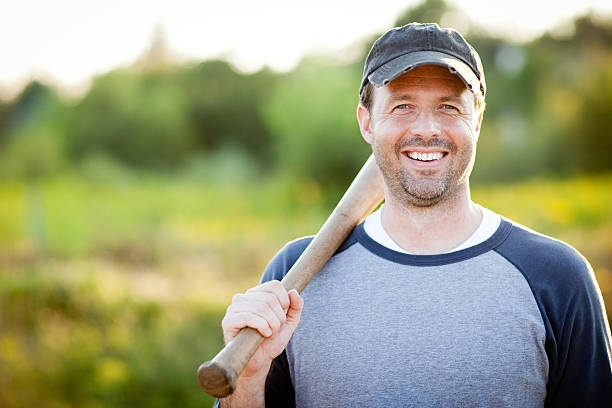bita: (196, 169, 377, 397)
